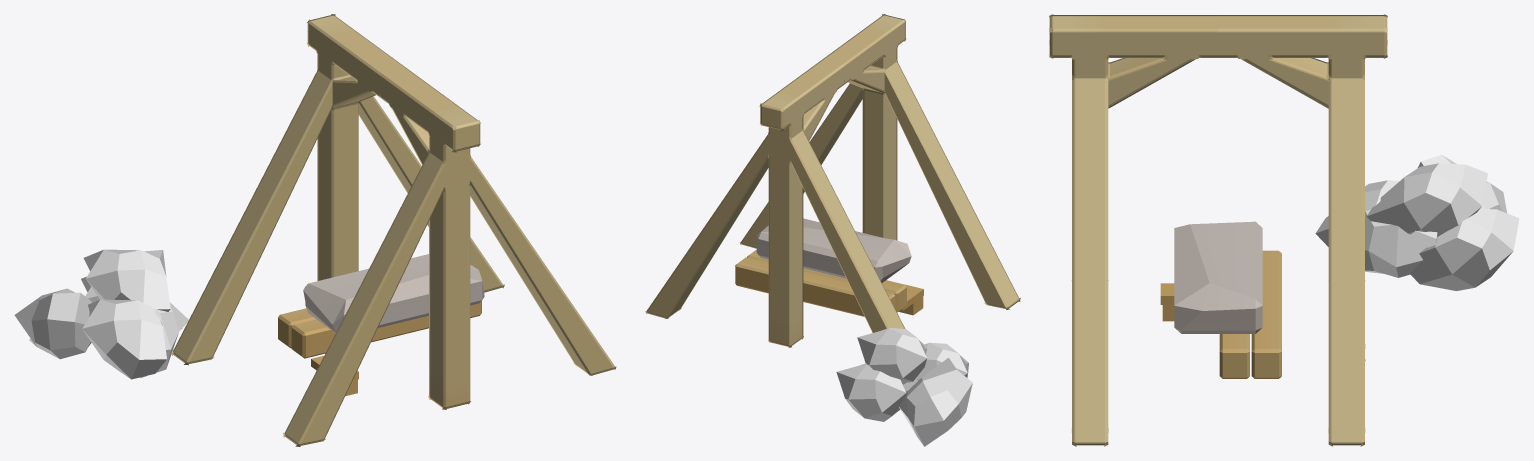
File:  Mud_Saw.glb
3 renders of one model, left to right at view 1: azimuth 30°, elevation 25°; view 2: azimuth 150°, elevation 25°; view 3: azimuth 270°, elevation 25°, orthographic. The views are drawn at different scales.
Visible parts, largest first — view 1: Cube.003, Cube.008, Cube.006, Cube.004, Cube.007; view 2: Cube.003, Cube.008, Cube.006, Cube.004, Cube.005; view 3: Cube.003, Cube.008, Cube.006, Cube.004, Cube.007, Cube.005.
Part boxes in pixels (left/top/right/bottom): Cube.003: left=171, top=14, right=616, bottom=446; Cube.008: left=14, top=249, right=170, bottom=379; Cube.006: left=303, top=254, right=484, bottom=333; Cube.004: left=278, top=301, right=481, bottom=358; Cube.007: left=140, top=302, right=188, bottom=377; Cube.003: left=645, top=14, right=1020, bottom=347; Cube.008: left=836, top=328, right=972, bottom=446; Cube.006: left=756, top=218, right=911, bottom=282; Cube.004: left=735, top=250, right=906, bottom=316; Cube.005: left=898, top=284, right=923, bottom=315; Cube.003: left=1049, top=14, right=1387, bottom=446; Cube.008: left=1315, top=154, right=1519, bottom=290; Cube.006: left=1174, top=221, right=1262, bottom=333; Cube.004: left=1219, top=250, right=1281, bottom=378; Cube.007: left=1365, top=209, right=1437, bottom=277; Cube.005: left=1160, top=283, right=1174, bottom=321.
Bounding box in the file's own units: 5.59 × 3.99 × 4.75.
1 material, 1 textured.
